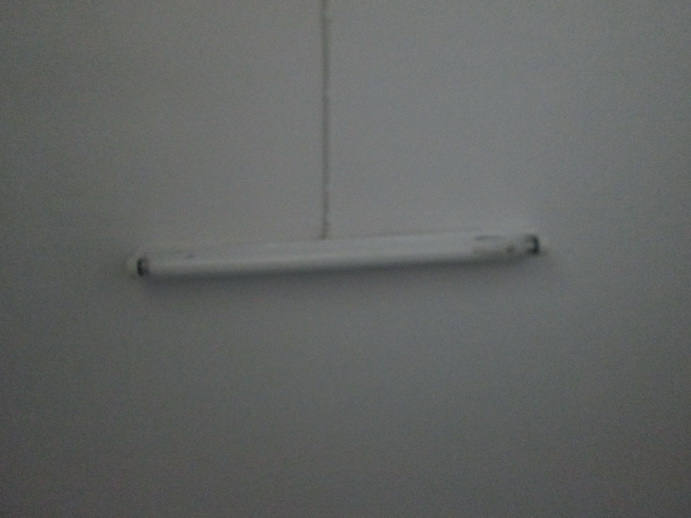Light bulb: (116, 218, 556, 290)
